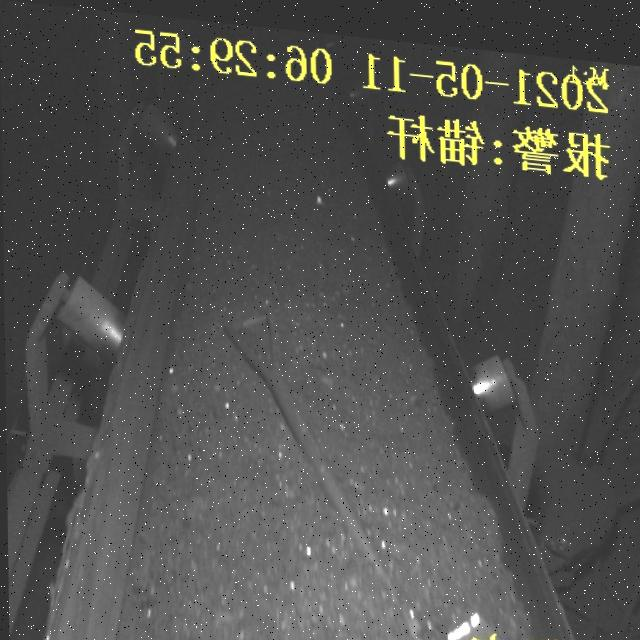bolt: (226, 302, 426, 640)
